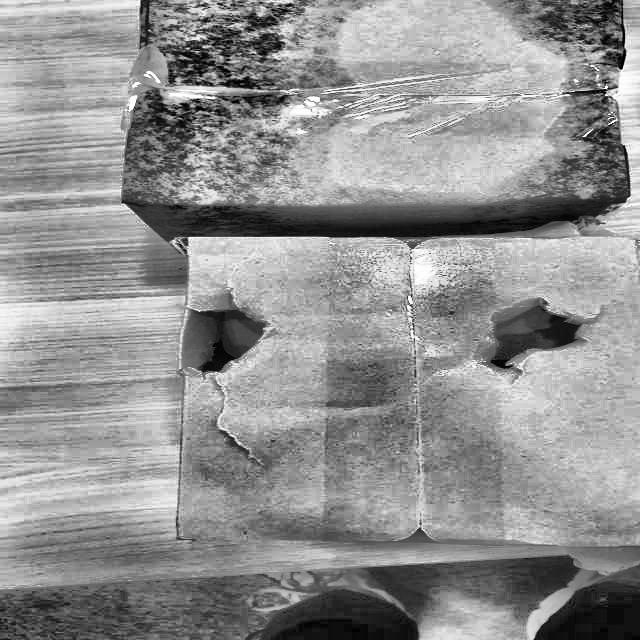box: (172, 236, 640, 554), (112, 20, 640, 227)
hole: (470, 290, 618, 380), (182, 283, 279, 381)
wet: (127, 2, 315, 192), (514, 104, 634, 201), (505, 1, 640, 64)
